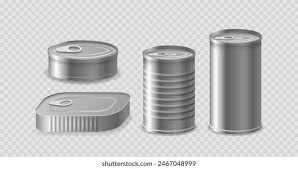can: (207, 28, 268, 135), (140, 45, 201, 138), (33, 89, 134, 135), (44, 34, 124, 84)
